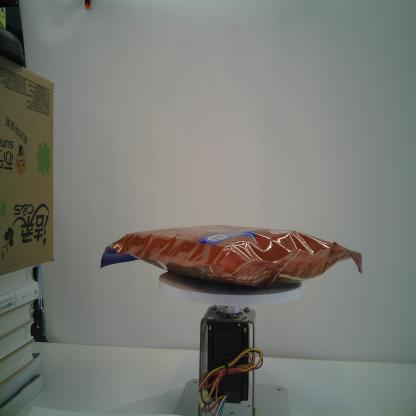Dried Food: (100, 224, 364, 290)
